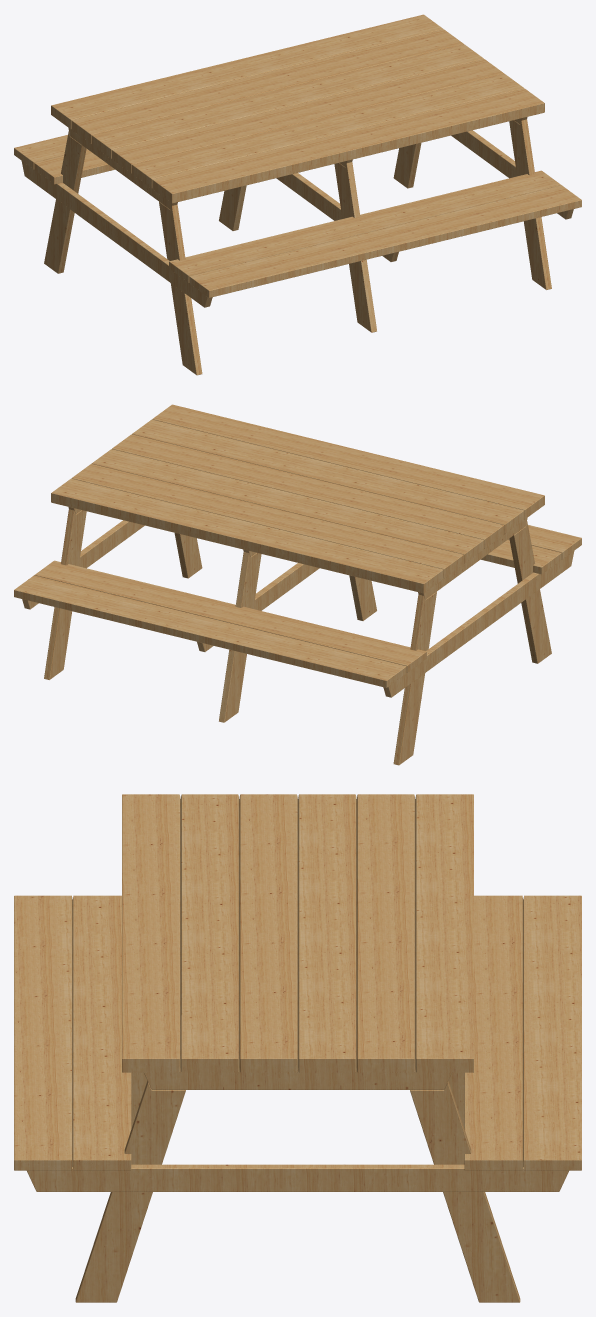
Rendered from Bench.obj.
3 renders of one model, top to bottom at view 1: azimuth 30°, elevation 25°; view 2: azimuth 150°, elevation 25°; view 3: azimuth 270°, elevation 25°, orthographic. The views are drawn at different scales.
Parts seen in each view (by area): view 1: wood_bench:Rectangle073; view 2: wood_bench:Rectangle073; view 3: wood_bench:Rectangle073.
Boxes of the visible parts, x1,y1,x2,y2 form: wood_bench:Rectangle073: (14, 14, 581, 375); wood_bench:Rectangle073: (14, 404, 581, 765); wood_bench:Rectangle073: (14, 794, 581, 1302).
Size of the model in its own units: 1600 by 706 by 1452.
Materials: 1 (1 with a texture image).
